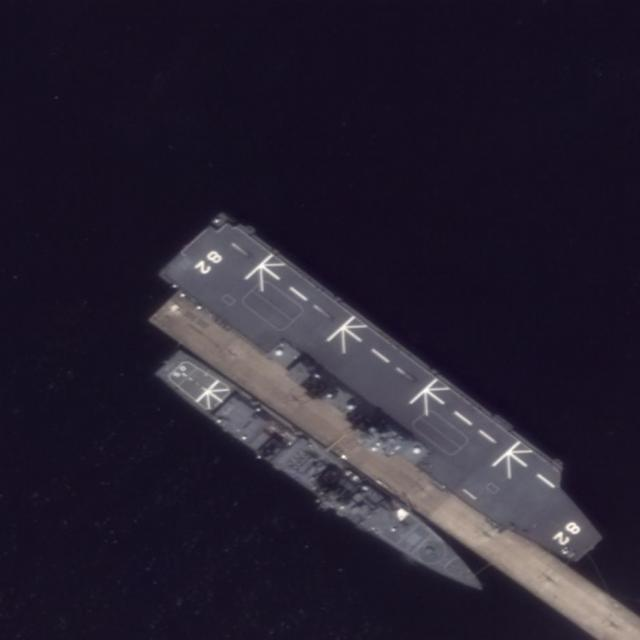Destroyer: (162, 203, 621, 586), (149, 341, 502, 608)
